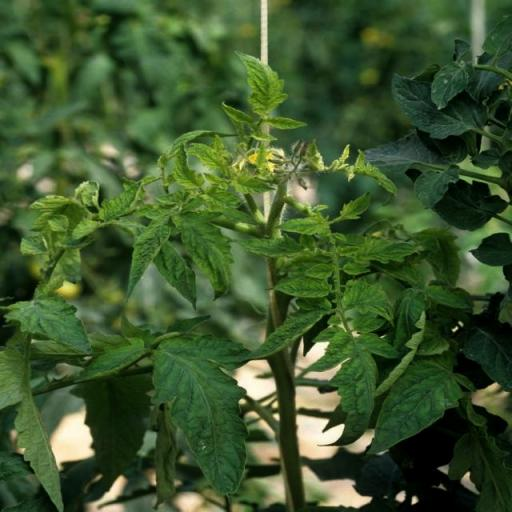Yellow Leaf Curl Virus: (365, 351, 477, 455), (306, 328, 402, 446), (374, 284, 432, 398), (170, 210, 234, 304), (240, 308, 324, 360), (123, 214, 171, 302), (232, 49, 288, 115), (352, 148, 398, 208), (344, 276, 397, 328), (350, 233, 424, 265), (230, 232, 306, 259), (97, 180, 144, 222), (169, 140, 206, 190), (188, 140, 236, 172), (274, 212, 332, 238), (272, 277, 334, 300), (424, 285, 472, 311), (228, 172, 278, 196), (338, 192, 374, 222), (262, 114, 308, 132), (353, 315, 388, 335), (305, 263, 336, 281), (342, 262, 372, 276)
